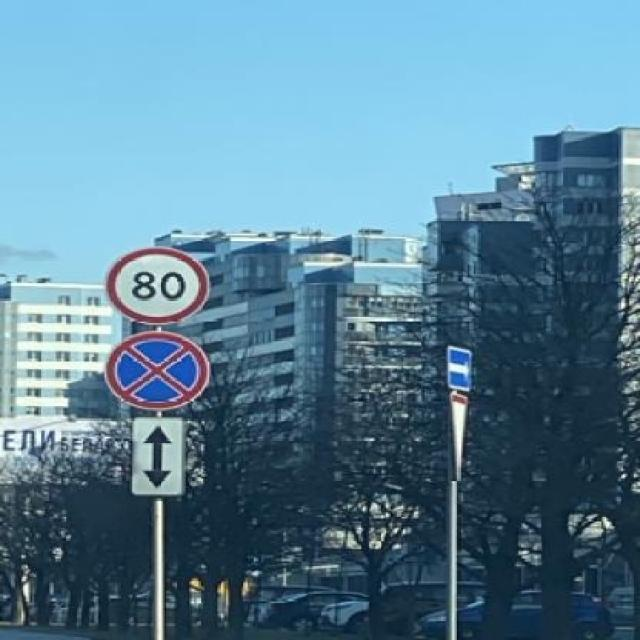forb_speed_over_80: (105, 249, 207, 326)
